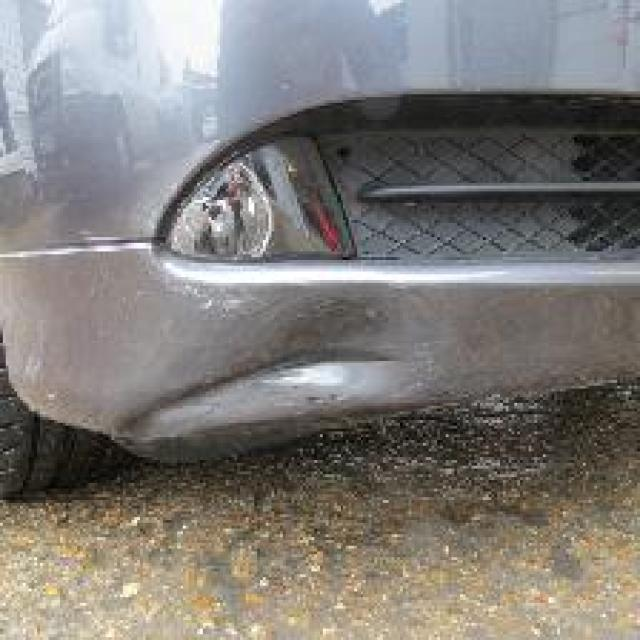bumper_dent_minor: (103, 283, 491, 460)
